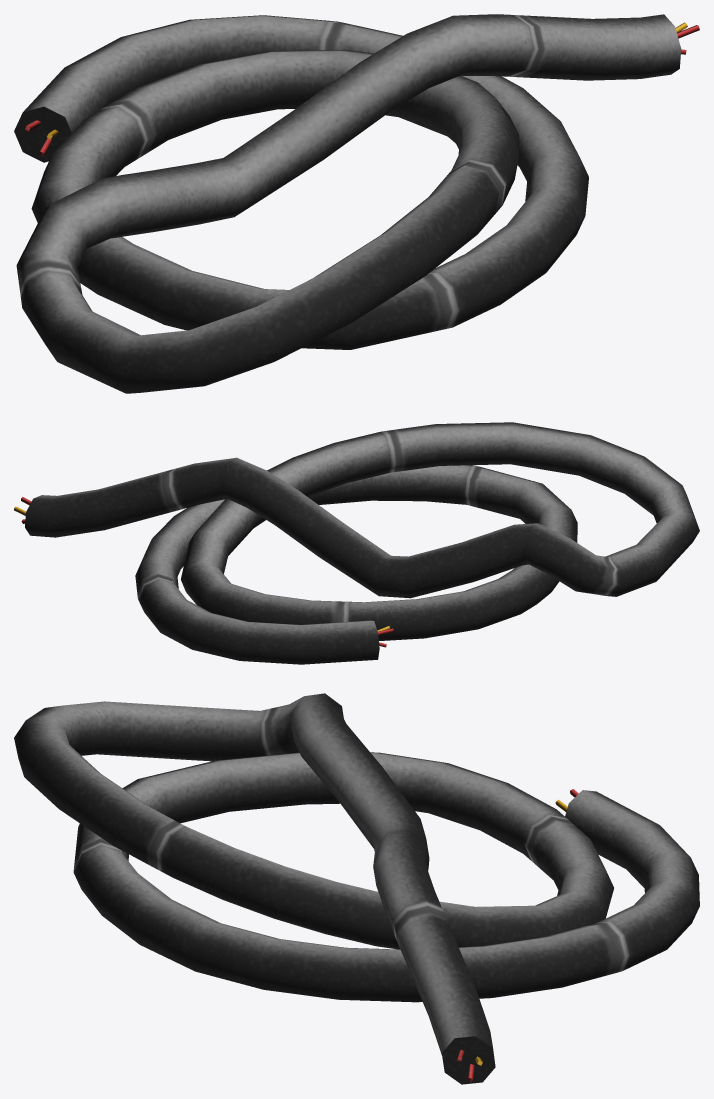
File: Wires_B.fbx
3 renders of one model, top to bottom at view 1: azimuth 30°, elevation 25°; view 2: azimuth 150°, elevation 25°; view 3: azimuth 270°, elevation 25°, orthographic. The views are drawn at different scales.
Visible parts, largest first — view 1: Wires_B; view 2: Wires_B; view 3: Wires_B.
Boxes of the visible parts, <box> form: Wires_B: <box>14,14,699,393</box>; Wires_B: <box>14,422,699,664</box>; Wires_B: <box>14,693,699,1084</box>.
Size of the model in its own units: 88.97 by 15.23 by 73.91.
